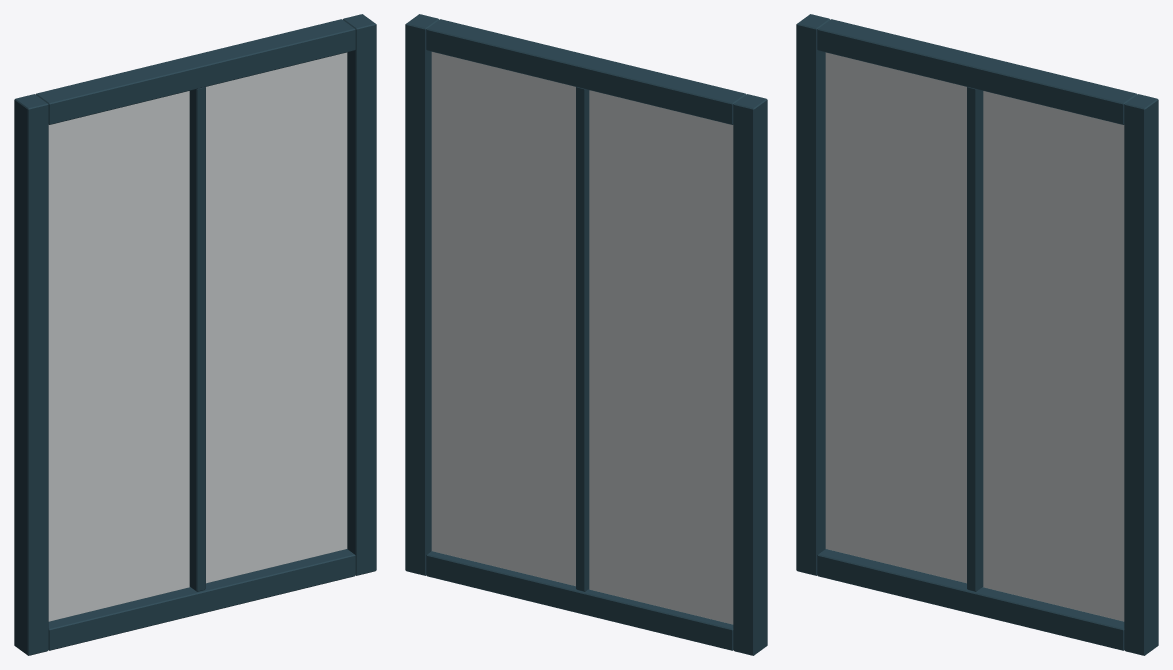
Rendered from window-2m.glb.
The picture shows the model from 3 angles, left to right: view 1: azimuth 30°, elevation 25°; view 2: azimuth 150°, elevation 25°; view 3: azimuth 330°, elevation 25°; orthographic projection.
Parts seen in each view (by area): view 1: window-2m; view 2: window-2m; view 3: window-2m.
Boxes of the visible parts, box(x1,y1,x2,y2) form: window-2m: box(14, 14, 376, 655); window-2m: box(405, 14, 767, 655); window-2m: box(796, 14, 1158, 655).
Bounding box in the file's own units: 2 × 3 × 0.14.
